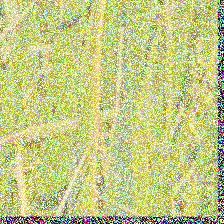Leaf_Blast: (88, 0, 101, 194)
